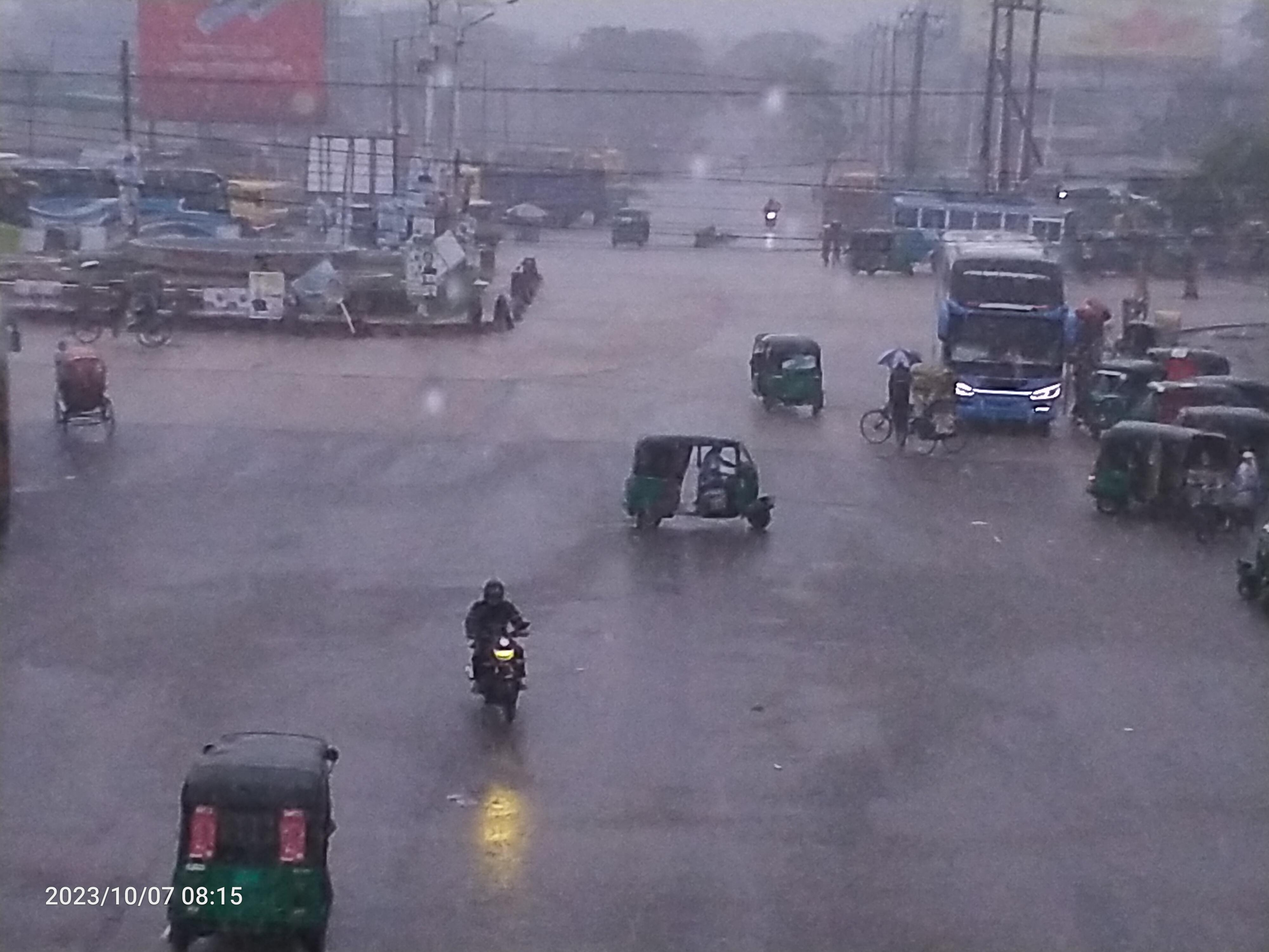Bike: (418, 548, 556, 748), (755, 187, 796, 237)
Bus: (926, 214, 1083, 458), (879, 184, 1107, 290), (0, 155, 239, 249)
Car: (853, 347, 986, 474), (36, 338, 136, 453)
Truck: (597, 193, 659, 257)
